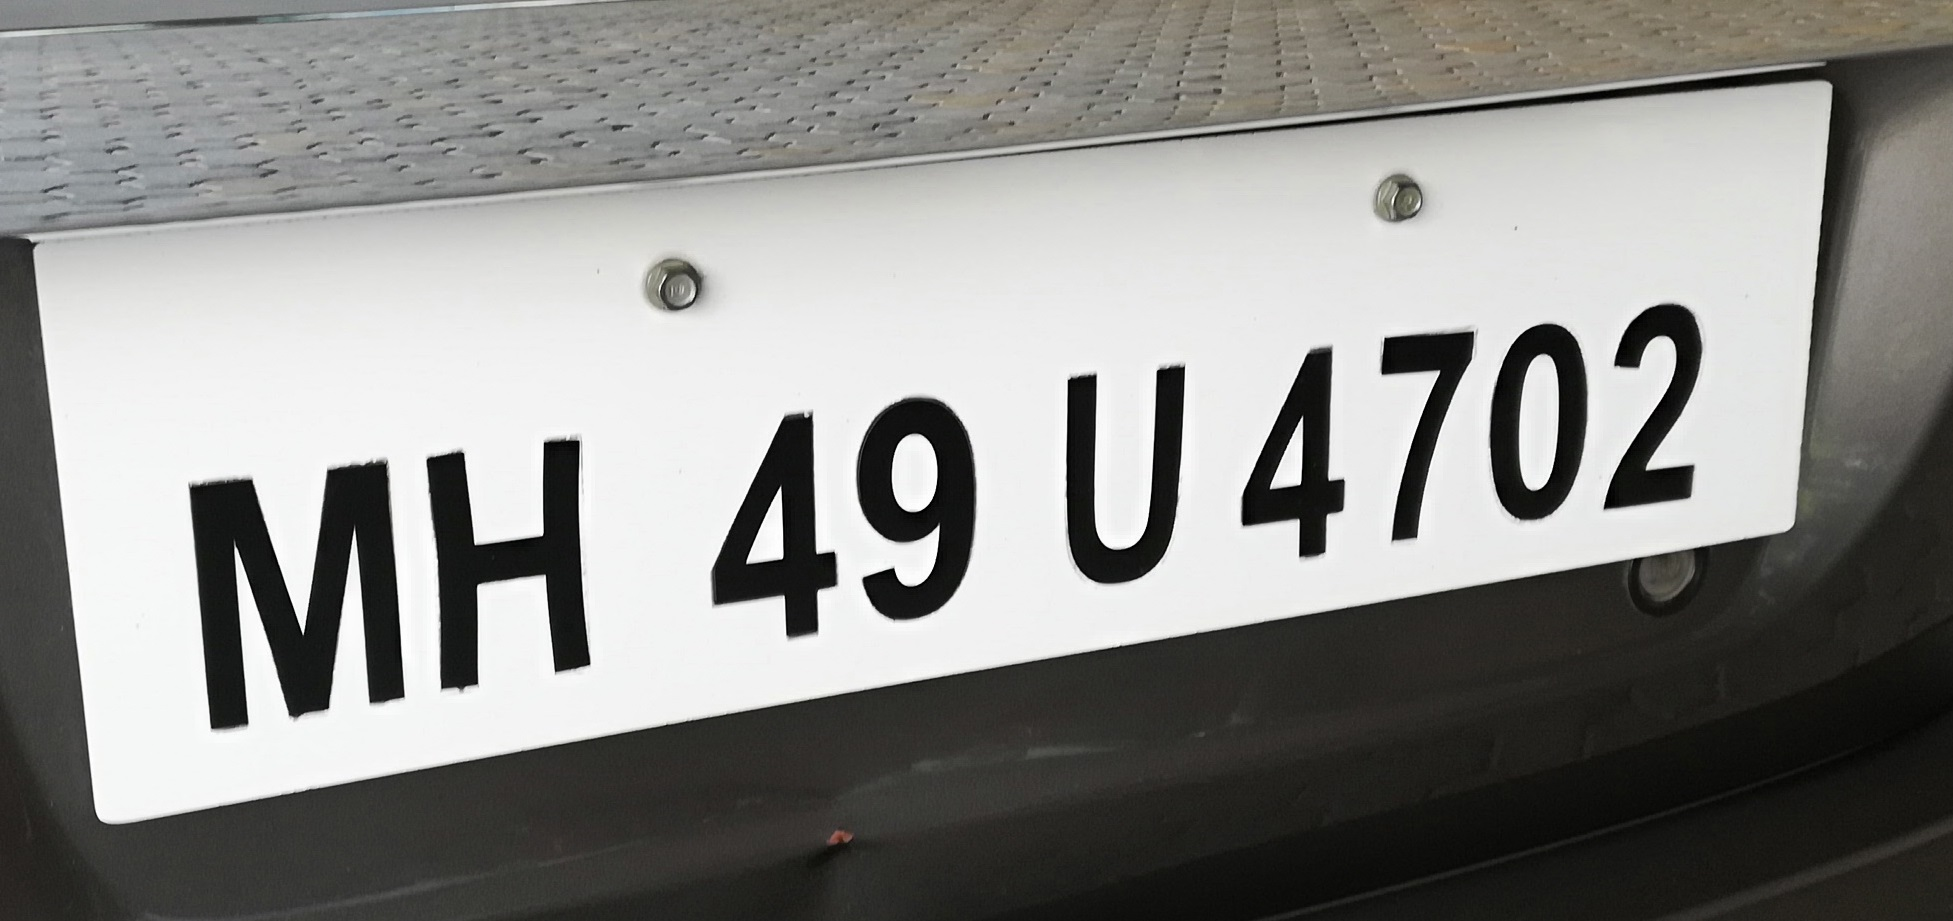numberplate: (24, 80, 1865, 833)
